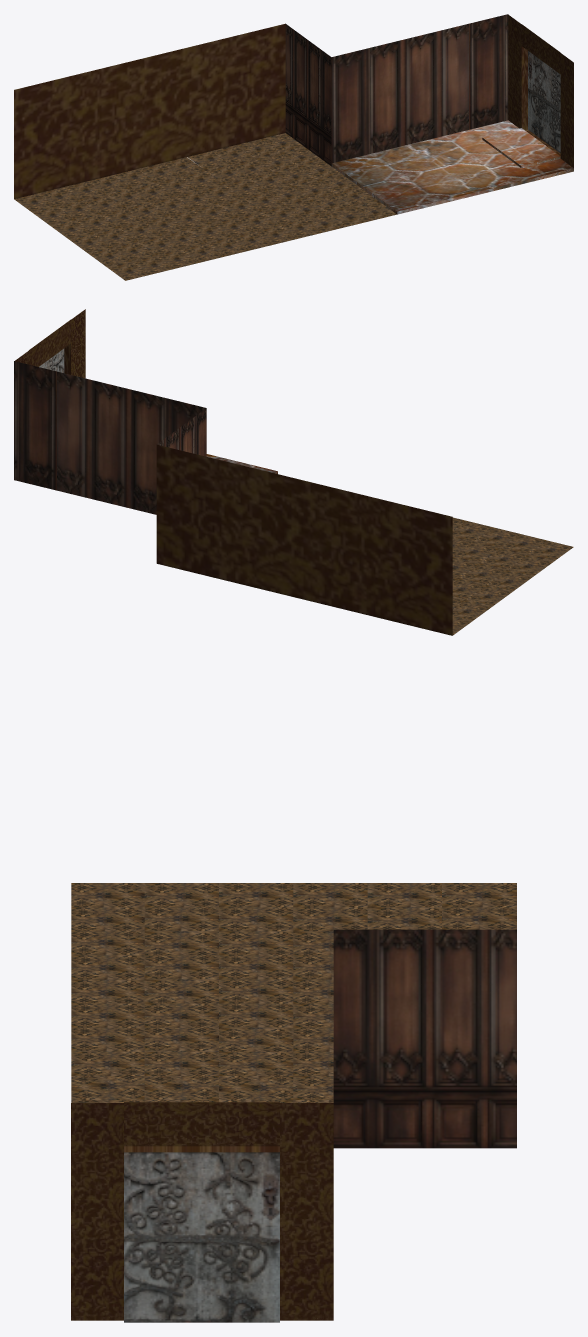
File: inside_Room.fbx
The picture shows the model from 3 angles, top to bottom: view 1: azimuth 30°, elevation 25°; view 2: azimuth 150°, elevation 25°; view 3: azimuth 270°, elevation 25°; orthographic projection. The views are drawn at different scales.
Parts seen in each view (by area): view 1: Plane; view 2: Plane; view 3: Plane.
Boxes of the visible parts, left/top/right/bottom form: Plane: left=14, top=14, right=573, bottom=280; Plane: left=14, top=309, right=573, bottom=635; Plane: left=71, top=883, right=516, bottom=1322.
Bounding box in the file's own units: 3883 × 892 × 1651.
